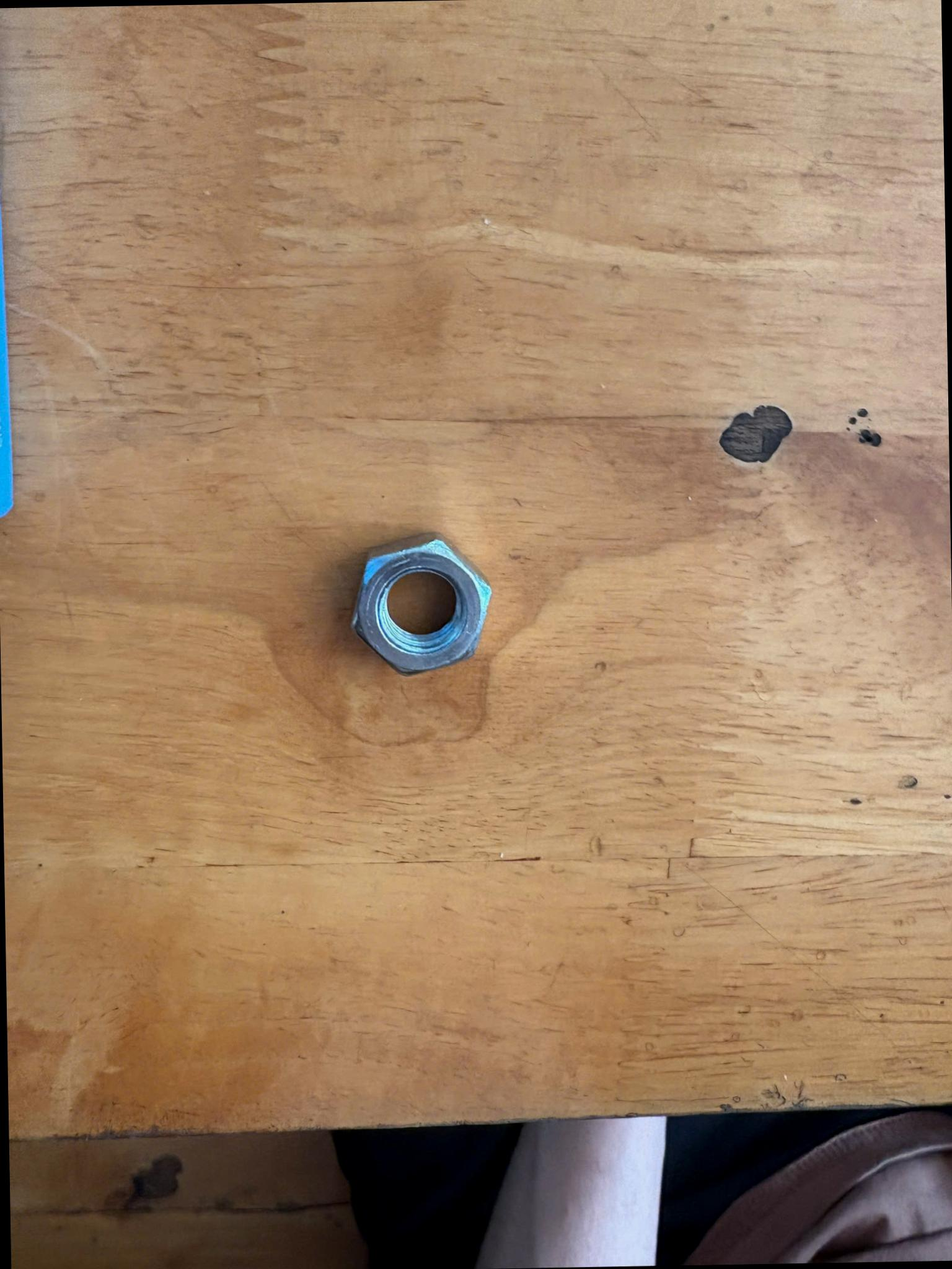nut: (335, 528, 531, 697)
